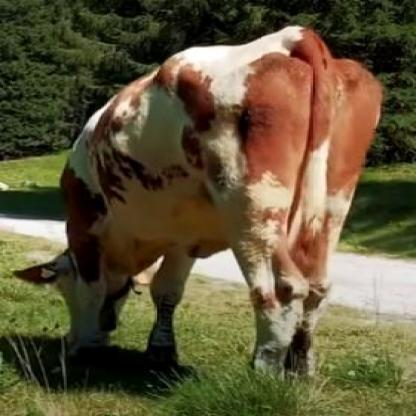cow: (10, 26, 384, 385)
